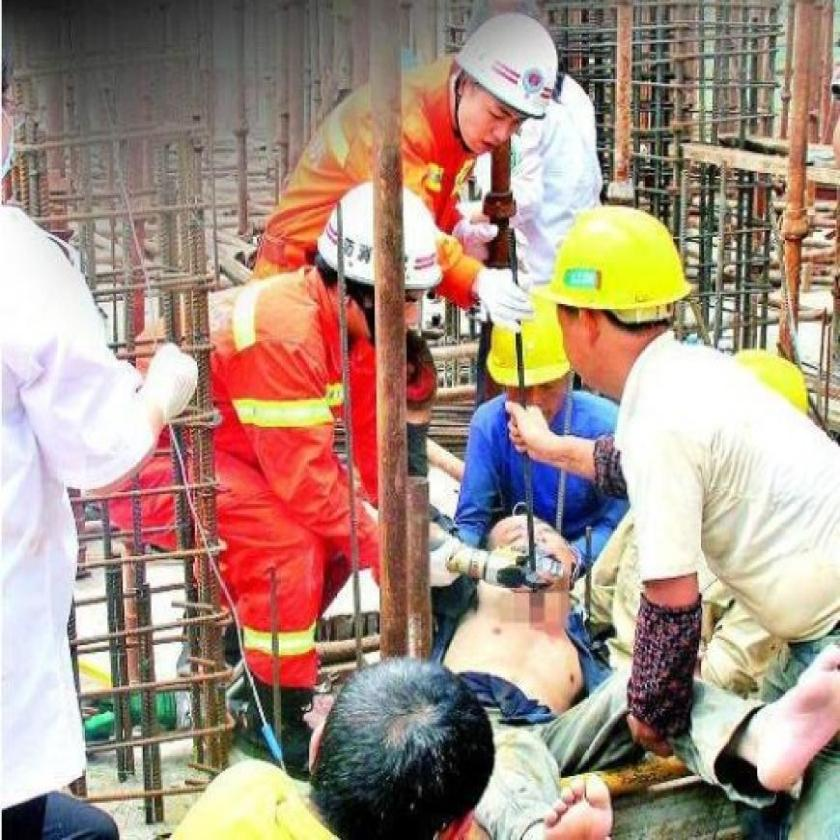Con_casco: (558, 188, 700, 422), (315, 185, 445, 347), (455, 16, 560, 160)
Sin_casco: (316, 642, 502, 840), (474, 482, 583, 634)
